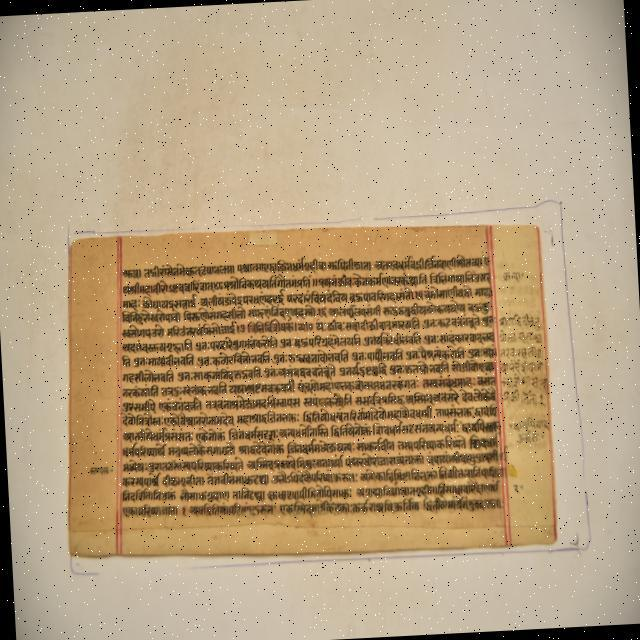text_paragraph: (67, 223, 558, 558)
